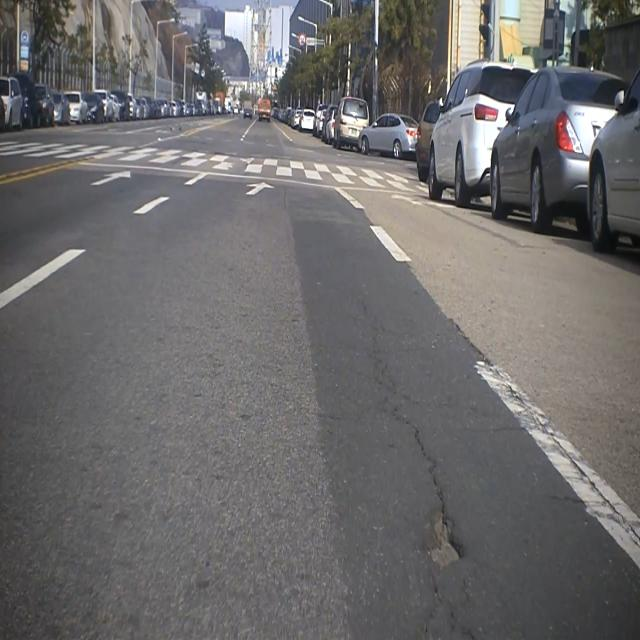Pothole: (411, 488, 472, 585)
